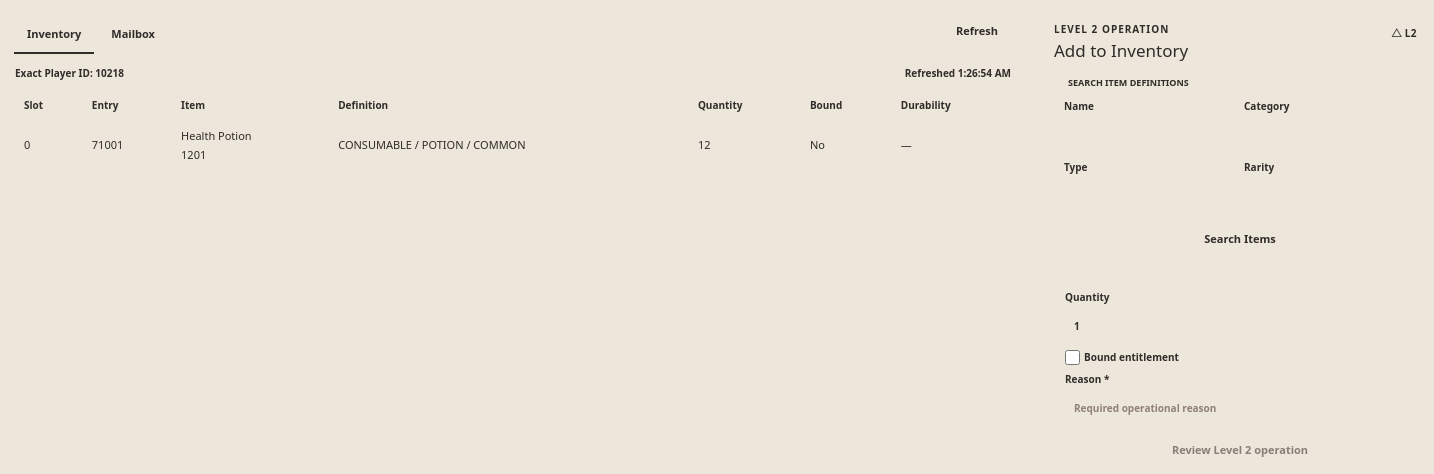
Player Inventory and Mailbox full-detail surface › loads exact destination tabs and keeps backend fields bounded
This screenshot has width=1434, height=474.
Check: the text "Health Potion" is shown, box [181,128,252,143]
Check: the text "71001" is shown, box [82,122,171,169]
Step 1. Click the button "Mailbox" → {"x": 133, "y": 35}, box [98,16,168,54]
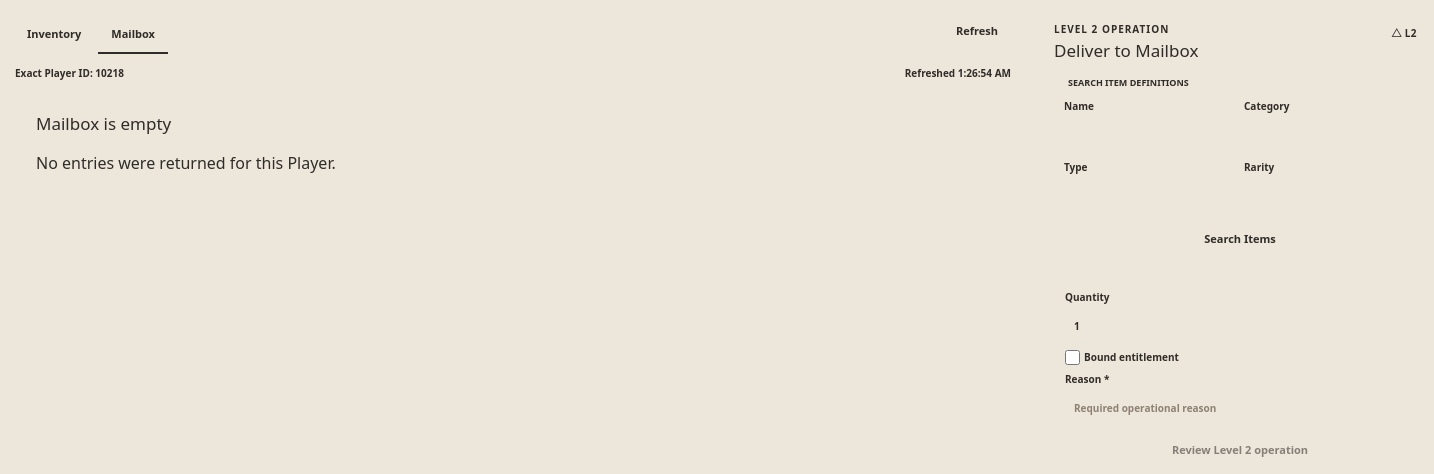
Check: the heading "Mailbox is empty" is shown, box [36,112,171,135]
